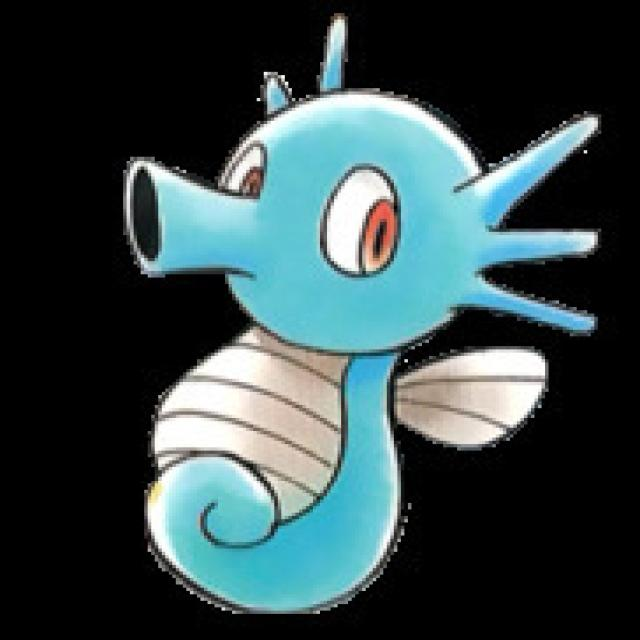Horsea: (119, 26, 596, 622)
